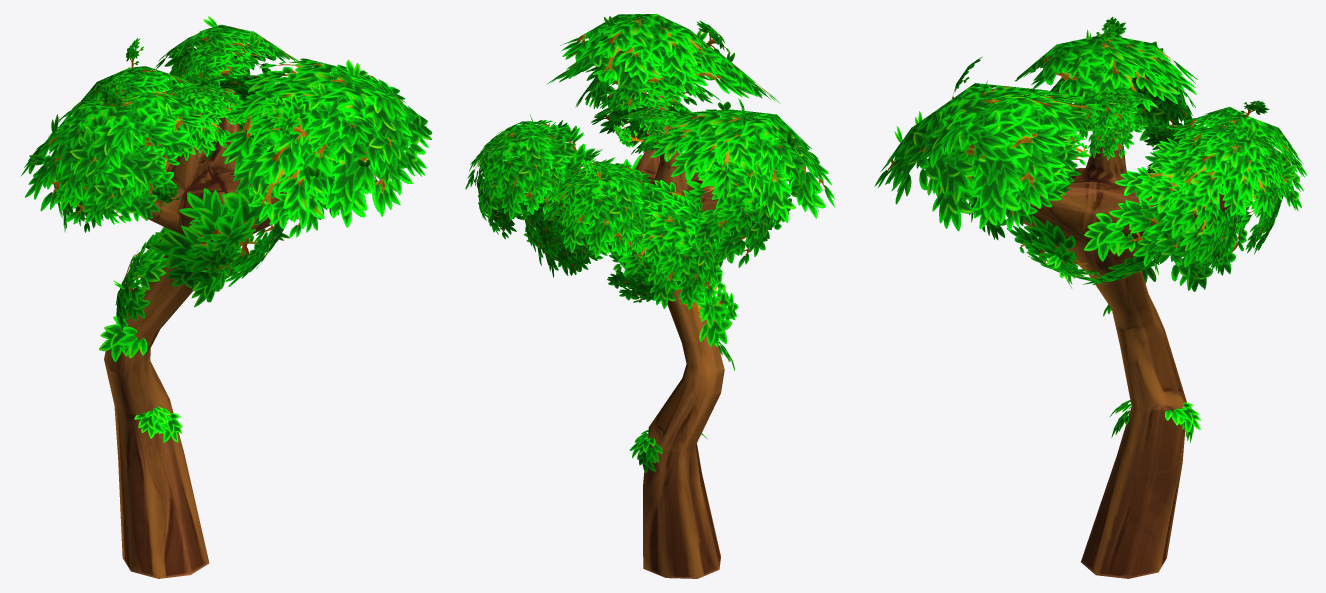
The model's file is 6_Verde_Claro.fbx.
3 renders of one model, left to right at view 1: azimuth 30°, elevation 25°; view 2: azimuth 150°, elevation 25°; view 3: azimuth 270°, elevation 25°, orthographic. The views are drawn at different scales.
Visible parts, largest first — view 1: 6_Verde_Claro_LOD_0; view 2: 6_Verde_Claro_LOD_0; view 3: 6_Verde_Claro_LOD_0.
Boxes of the visible parts, left/top/right/bottom form: 6_Verde_Claro_LOD_0: left=21, top=16, right=432, bottom=578; 6_Verde_Claro_LOD_0: left=465, top=14, right=834, bottom=578; 6_Verde_Claro_LOD_0: left=874, top=16, right=1307, bottom=578.
Size of the model in its own units: 528 by 768 by 573.
